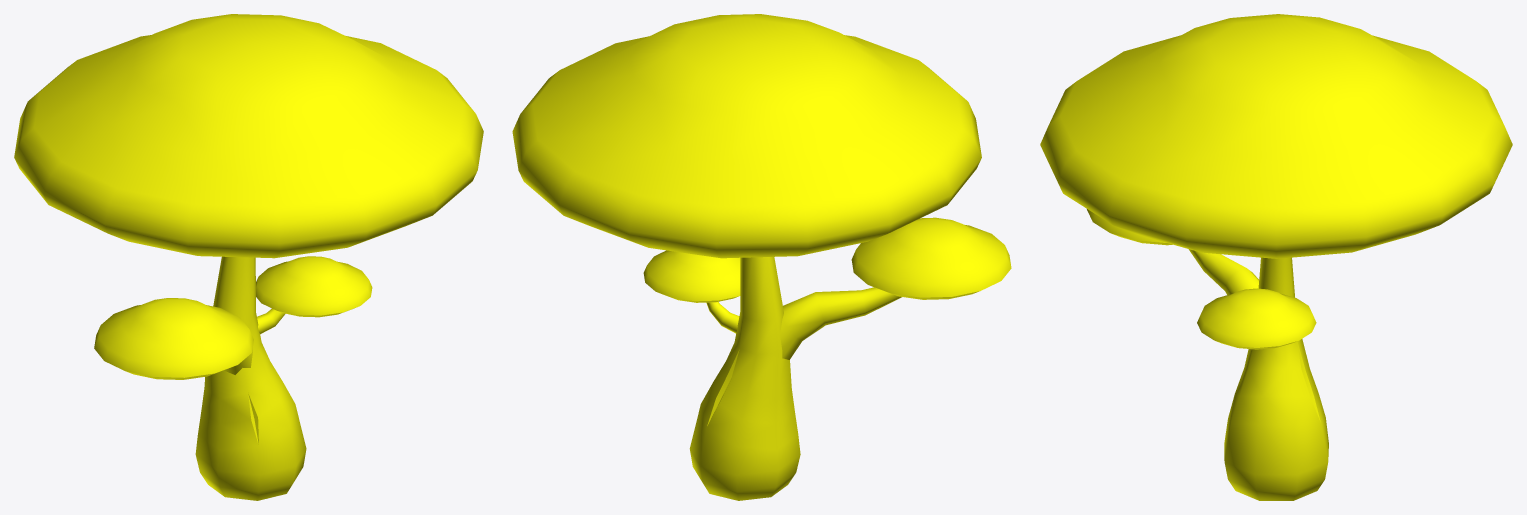
Rendered from kaykit-tree-3-b-color-1.glb.
3 renders of one model, left to right at view 1: azimuth 30°, elevation 25°; view 2: azimuth 150°, elevation 25°; view 3: azimuth 270°, elevation 25°, orthographic.
Parts seen in each view (by area): view 1: Tree_3_B_Color1; view 2: Tree_3_B_Color1; view 3: Tree_3_B_Color1.
Boxes of the visible parts, <box> form: Tree_3_B_Color1: <box>14,14,483,500</box>; Tree_3_B_Color1: <box>512,14,1011,500</box>; Tree_3_B_Color1: <box>1040,14,1512,500</box>.
Bounding box in the file's own units: 4.13 × 4.35 × 4.13.
